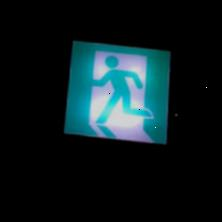emergency_exit: (63, 39, 173, 147)
